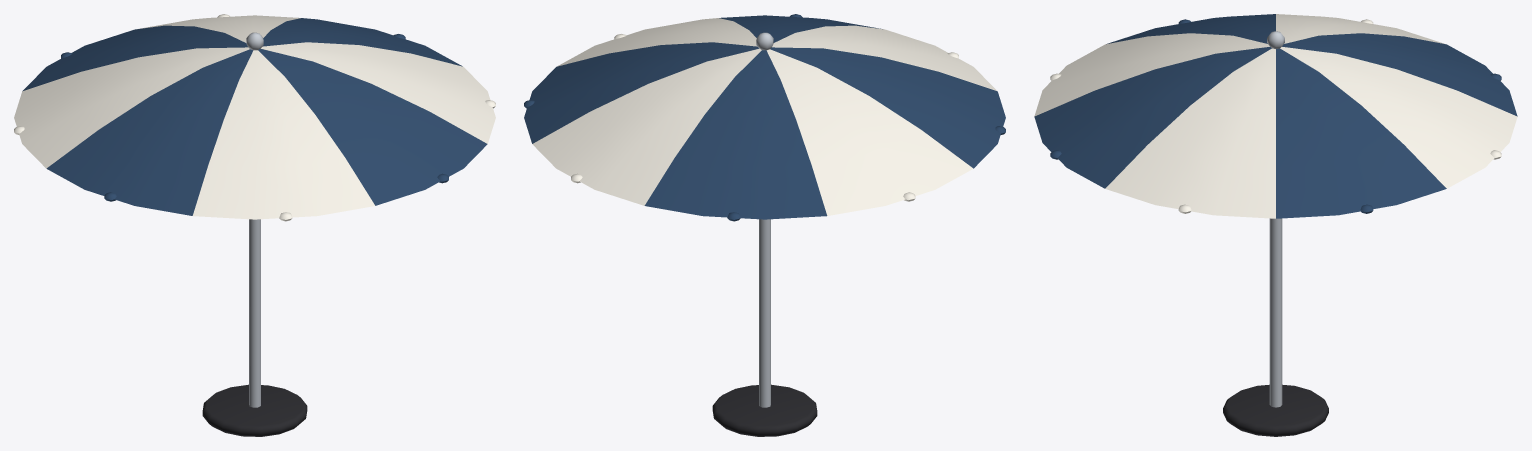
Rendered from patio_umbrella.glb.
3 renders of one model, left to right at view 1: azimuth 30°, elevation 25°; view 2: azimuth 150°, elevation 25°; view 3: azimuth 270°, elevation 25°, orthographic.
Visible parts, largest first — view 1: patio_umbrella; view 2: patio_umbrella; view 3: patio_umbrella.
Boxes of the visible parts, <box> form: patio_umbrella: <box>14,14,495,436</box>; patio_umbrella: <box>524,14,1005,436</box>; patio_umbrella: <box>1034,14,1517,436</box>.
Size of the model in its own units: 3.1 by 2.72 by 3.1.
